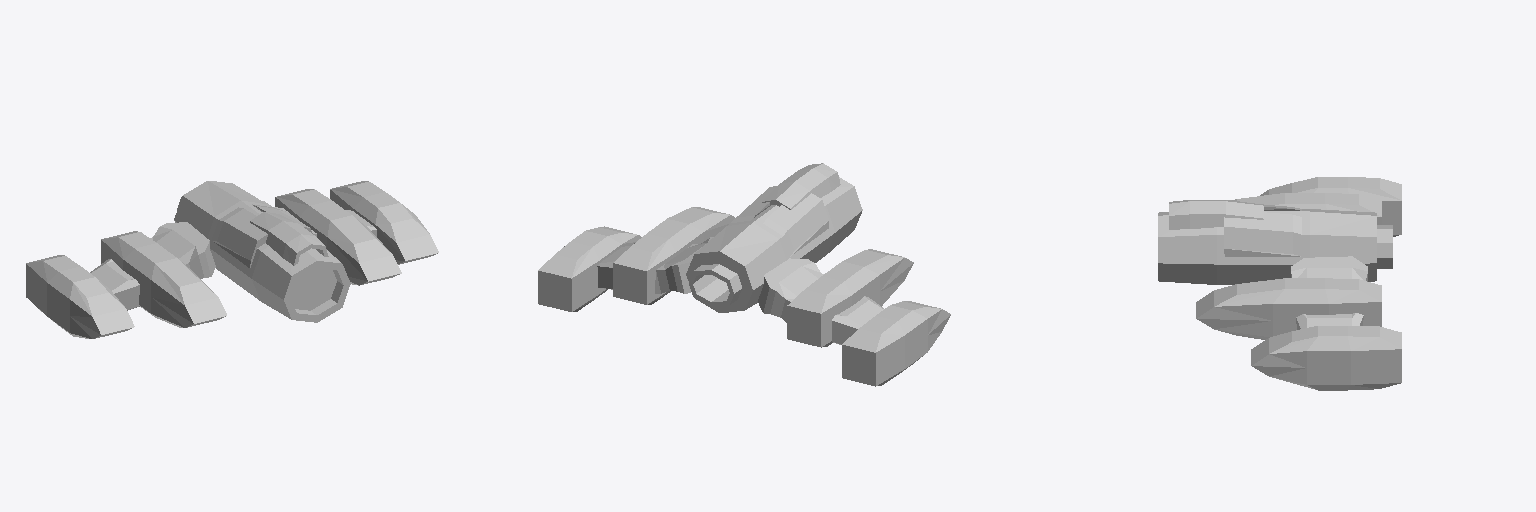
File: spaceship2.obj
The picture shows the model from 3 angles: view 1: azimuth 30°, elevation 25°; view 2: azimuth 150°, elevation 25°; view 3: azimuth 270°, elevation 25°; orthographic projection.
Parts seen in each view (by area): view 1: M3_Ship_2_Cube.084; view 2: M3_Ship_2_Cube.084; view 3: M3_Ship_2_Cube.084.
Part boxes in pixels (x1,y1,x2,y2): M3_Ship_2_Cube.084: (26,181,438,338); M3_Ship_2_Cube.084: (538,163,950,386); M3_Ship_2_Cube.084: (1158,177,1401,390).
Size of the model in its own units: 40.17 by 12.15 by 24.63.